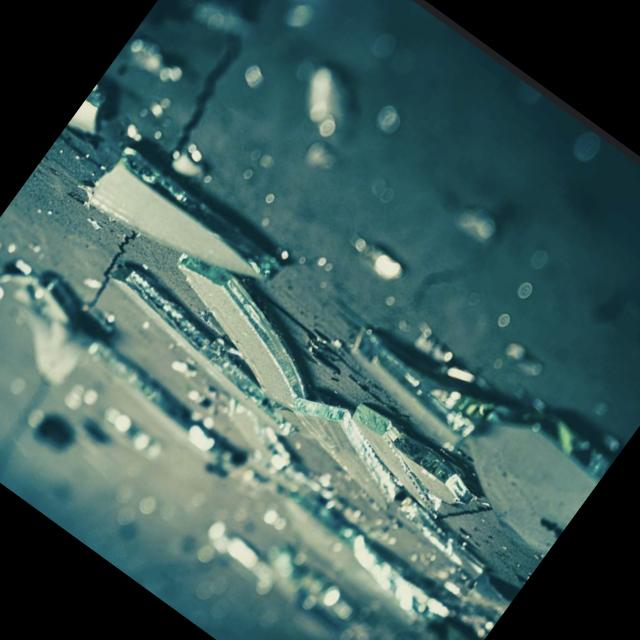PecahanKaca: (0, 136, 517, 609), (332, 395, 486, 528)
